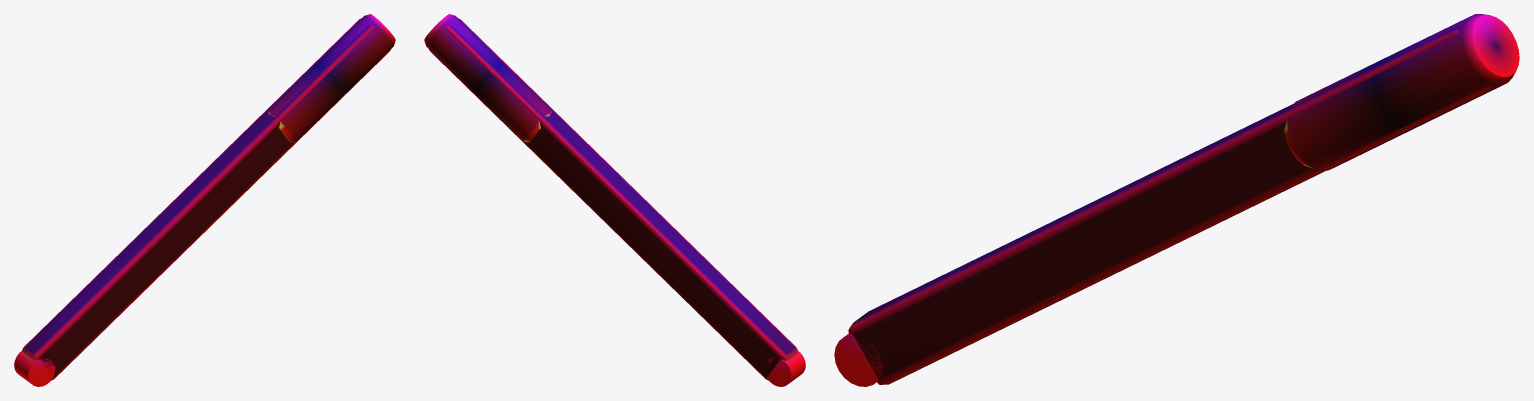
The model's file is prop_cracker_lever.fbx.
3 renders of one model, left to right at view 1: azimuth 30°, elevation 25°; view 2: azimuth 150°, elevation 25°; view 3: azimuth 330°, elevation 25°, orthographic. The views are drawn at different scales.
Visible parts, largest first — view 1: prop_cracker_lever; view 2: prop_cracker_lever; view 3: prop_cracker_lever.
Part boxes in pixels (bbox=[...]): prop_cracker_lever: bbox=[14, 14, 395, 386]; prop_cracker_lever: bbox=[424, 14, 805, 386]; prop_cracker_lever: bbox=[834, 14, 1519, 386].
Bounding box in the file's own units: 0.3002 × 0.219 × 0.03.
